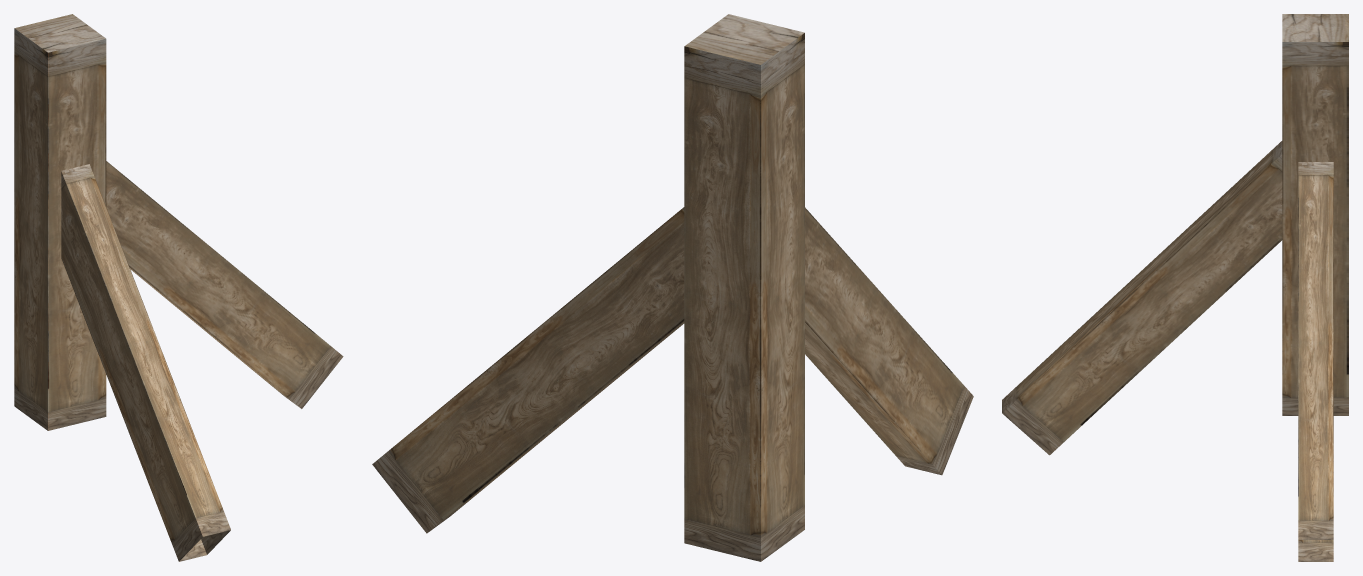
The model's file is delimitator_a.dae.
3 views of the same model, side by side, from view 1: azimuth 30°, elevation 25°; view 2: azimuth 150°, elevation 25°; view 3: azimuth 270°, elevation 25° (orthographic). The views are drawn at different scales.
Parts seen in each view (by area): view 1: Limitador_a; view 2: Limitador_a; view 3: Limitador_a.
Boxes of the visible parts, <box> form: Limitador_a: <box>14,14,343,561</box>; Limitador_a: <box>372,14,973,561</box>; Limitador_a: <box>1002,14,1348,561</box>.
Size of the model in its own units: 2.23 by 2.23 by 2.99.
